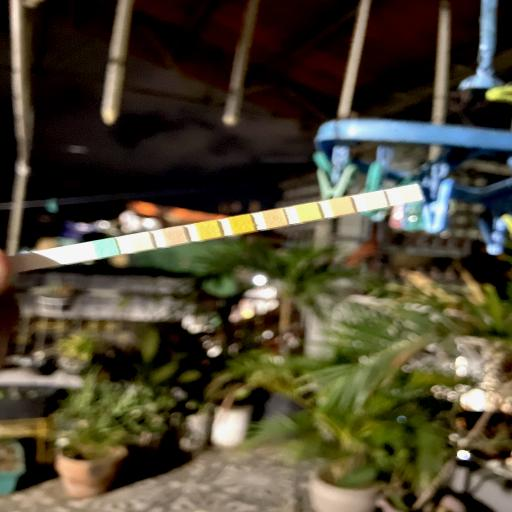Bilirubin: (130, 234, 150, 250)
Blood: (231, 218, 251, 232)
Glucose: (96, 241, 116, 255)
Ketone: (165, 228, 184, 244)
Leukocytes: (400, 188, 419, 202)
Nitrite: (366, 194, 384, 208)
Protein: (298, 205, 318, 219)
SpGravity: (199, 222, 217, 238)
Urobilinogen: (332, 200, 351, 214)
pH: (266, 212, 284, 226)
strip: (23, 184, 425, 271)
